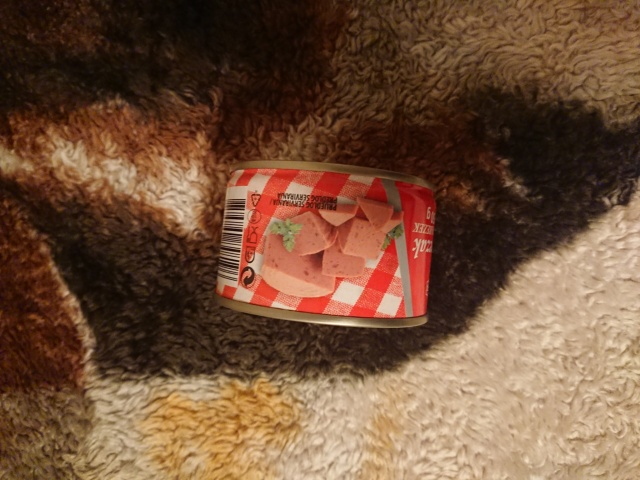Podravka Luncheon Meat 150g: (212, 155, 440, 331)
